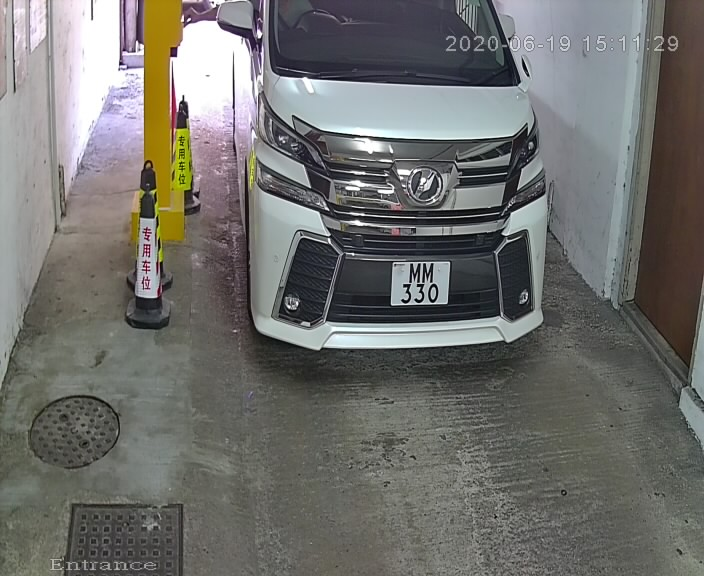privatecar: (203, 3, 556, 386)
